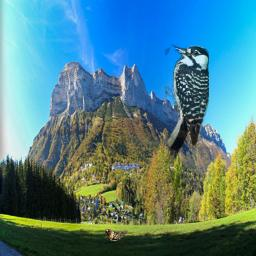Swallow: (104, 229, 128, 242)
Woodpecker: (165, 44, 209, 163)
